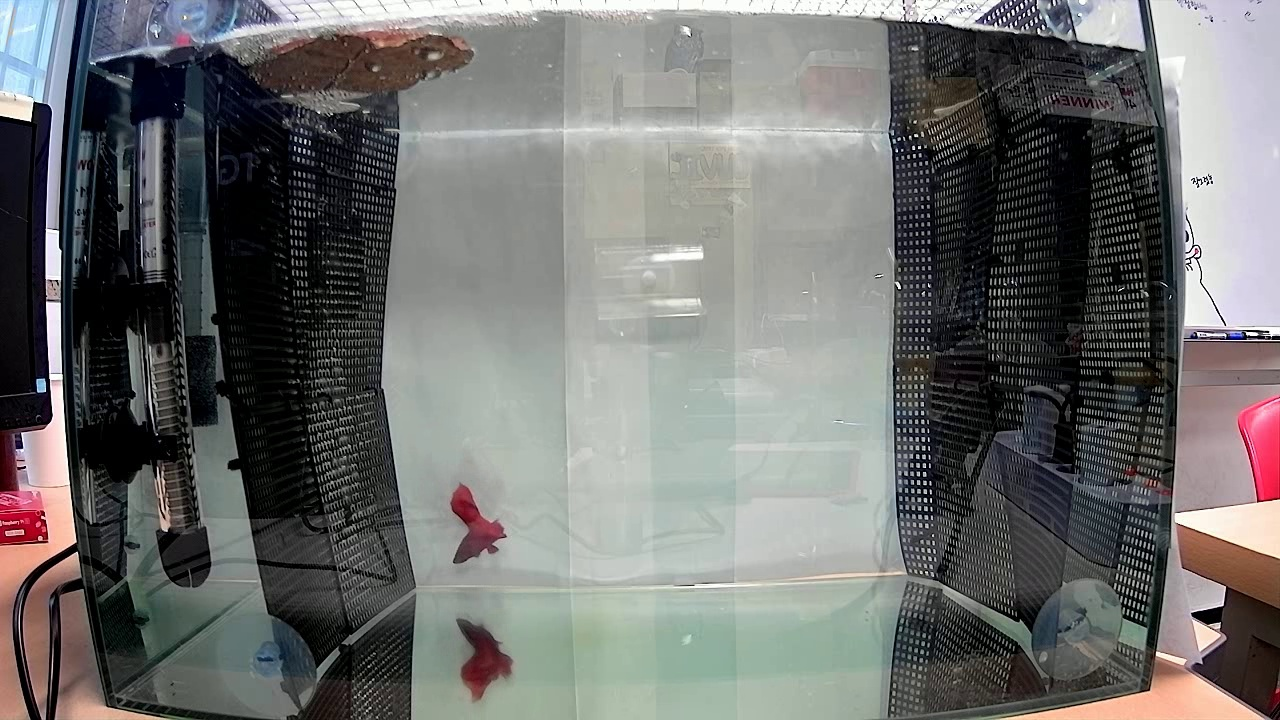fish: (441, 477, 511, 566)
